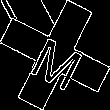M_NE: (23, 22, 87, 88)
